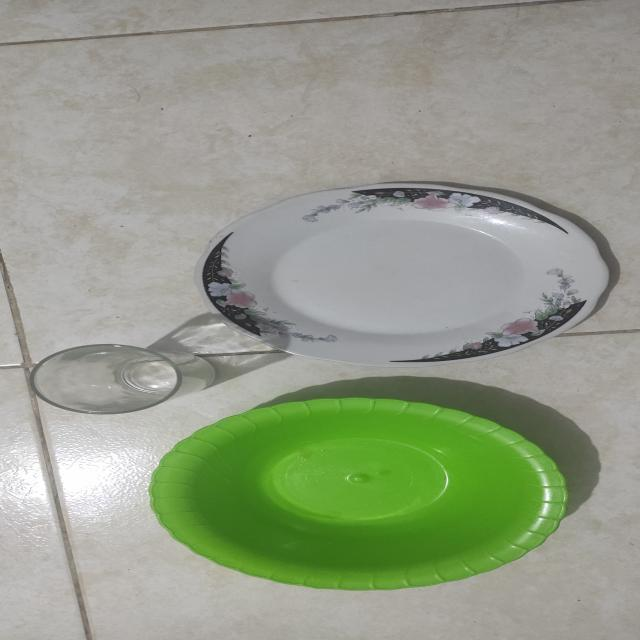ceramic plate: (132, 388, 607, 600), (177, 172, 637, 372)
